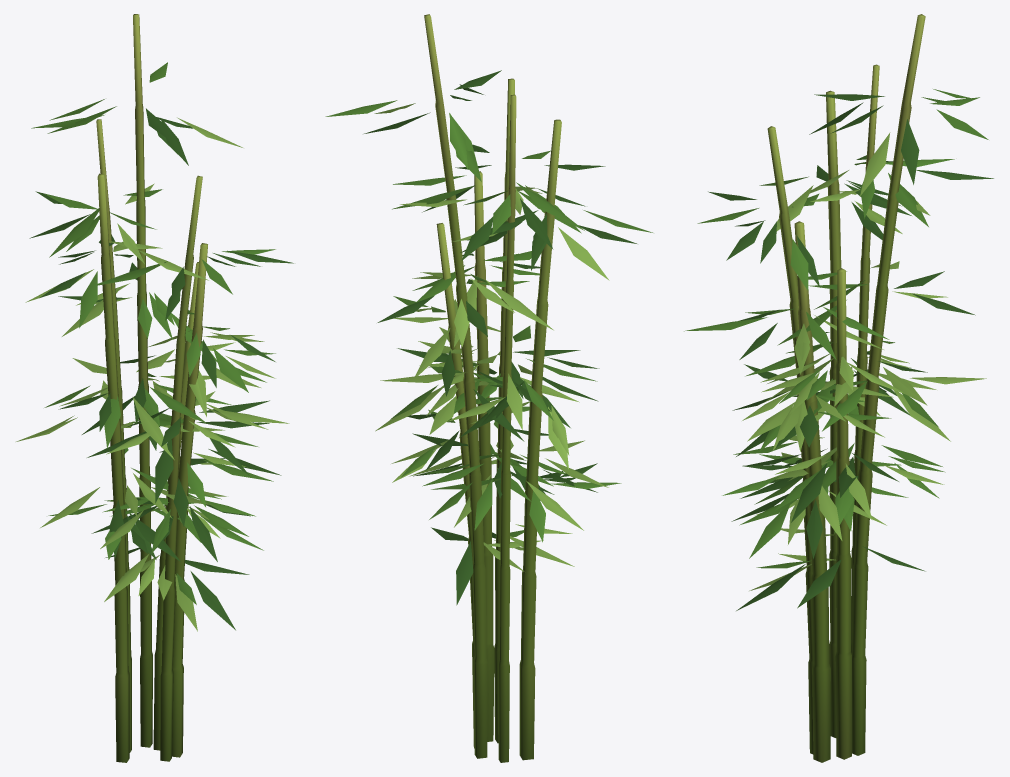
File: prop.bamboo_clump.glb
3 views of the same model, side by side, from view 1: azimuth 30°, elevation 25°; view 2: azimuth 150°, elevation 25°; view 3: azimuth 270°, elevation 25° (orthographic). The views are drawn at different scales.
Parts seen in each view (by area): view 1: bamboo_clump; view 2: bamboo_clump; view 3: bamboo_clump.
Part boxes in pixels (x1,y1,x2,y2): bamboo_clump: (16,14,293,762); bamboo_clump: (325,14,652,762); bamboo_clump: (684,14,993,762).
Bounding box in the file's own units: 3.99 × 11.45 × 4.33.
